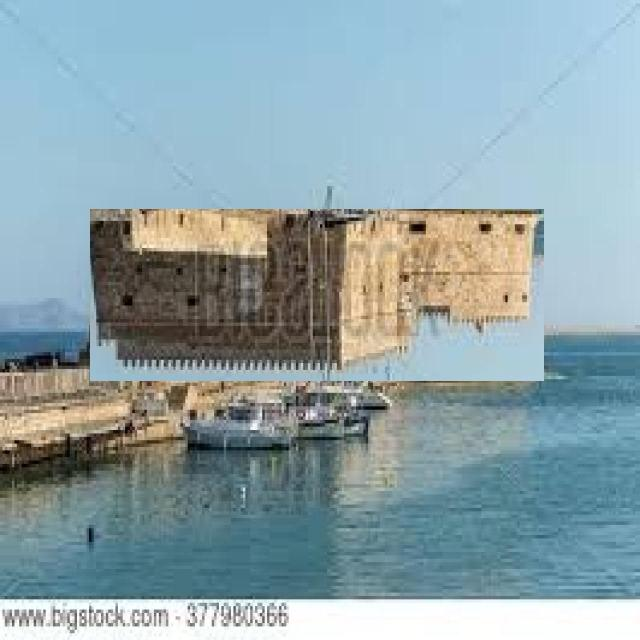Kules: (91, 210, 545, 382)
